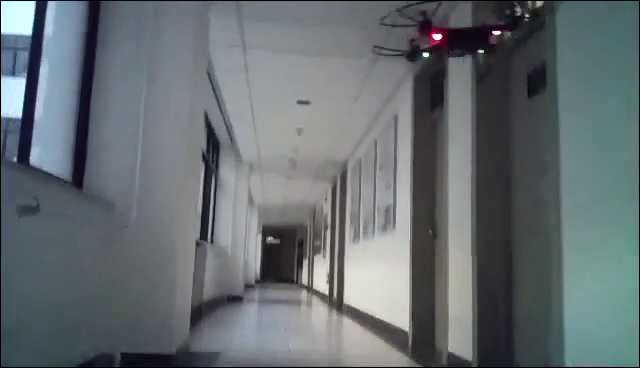drone: (371, 1, 549, 75)
